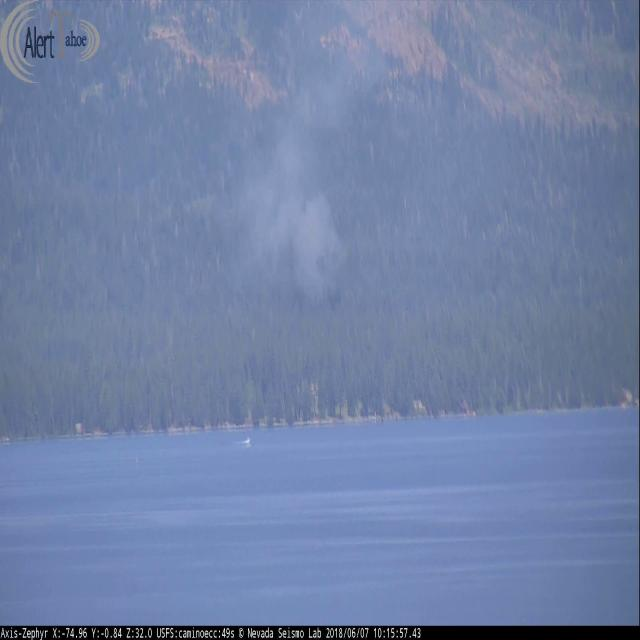smoke: (228, 48, 388, 320)
